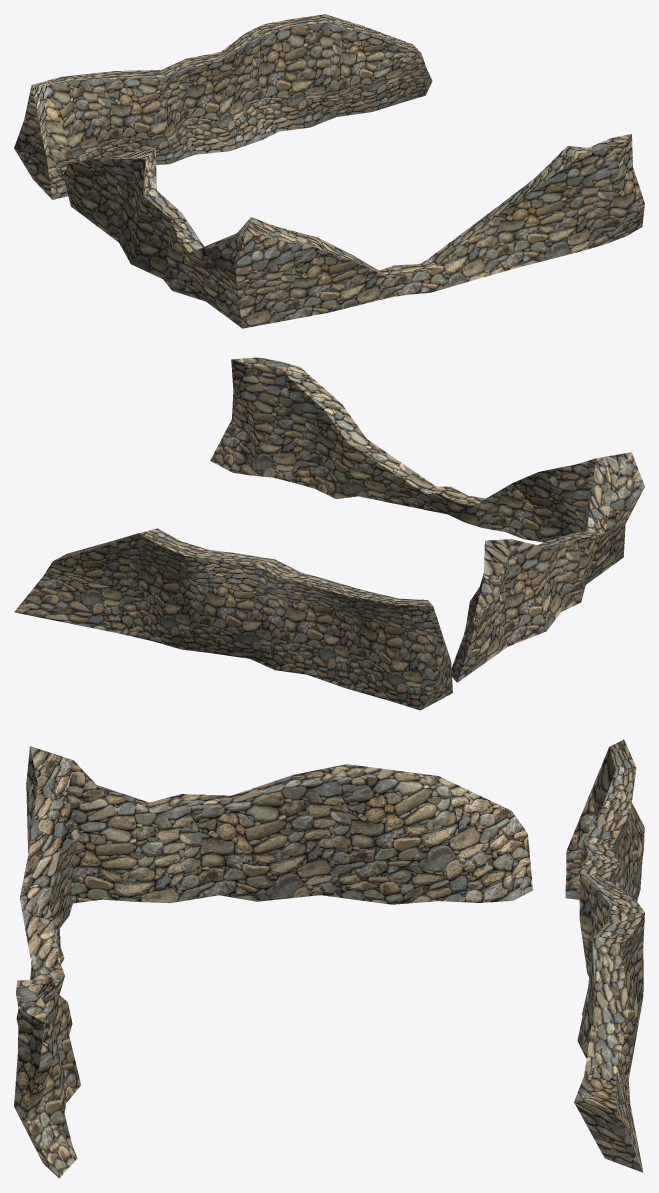
Rendered from Walls.FBX.
3 renders of one model, top to bottom at view 1: azimuth 30°, elevation 25°; view 2: azimuth 150°, elevation 25°; view 3: azimuth 270°, elevation 25°, orthographic. The views are drawn at different scales.
Visible parts, largest first — view 1: Box001; view 2: Box001; view 3: Box001.
Boxes of the visible parts, <box> form: Box001: <box>14,14,644,328</box>; Box001: <box>14,357,644,710</box>; Box001: <box>14,739,644,1178</box>.
Bounding box in the file's own units: 2250 × 507 × 1993.
